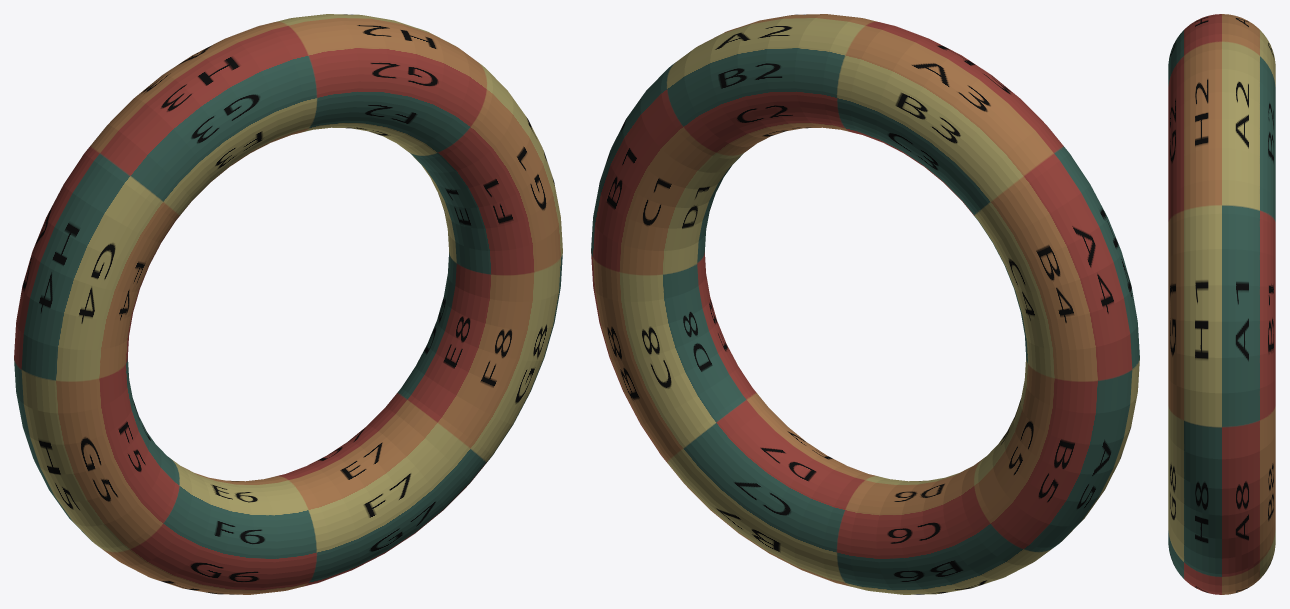
The model's file is texture_torus_R30_r18.glb.
3 renders of one model, left to right at view 1: azimuth 30°, elevation 25°; view 2: azimuth 150°, elevation 25°; view 3: azimuth 270°, elevation 25°, orthographic. The views are drawn at different scales.
Parts seen in each view (by area): view 1: world; view 2: world; view 3: world.
Part boxes in pixels (box(x1,y1,x2,y2)): world: box(14, 14, 562, 594); world: box(591, 14, 1139, 594); world: box(1168, 14, 1275, 594).
Size of the model in its own units: 36.8 by 36.73 by 6.79.
1 material, 1 textured.
